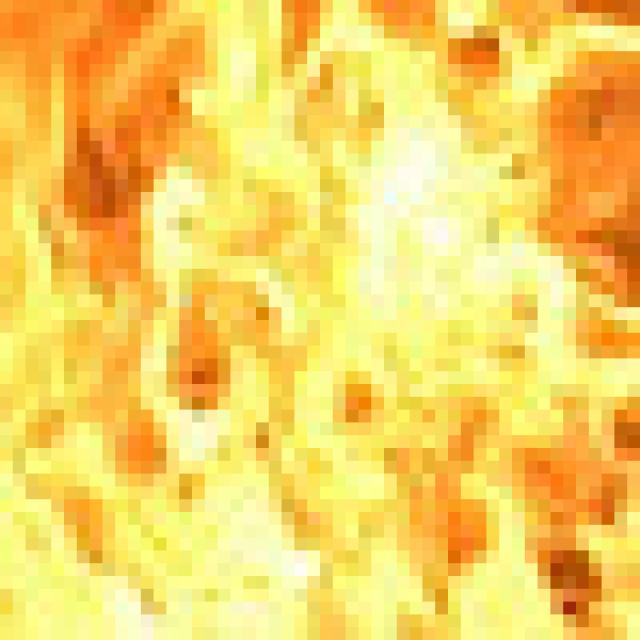fire: (11, 15, 632, 634)
